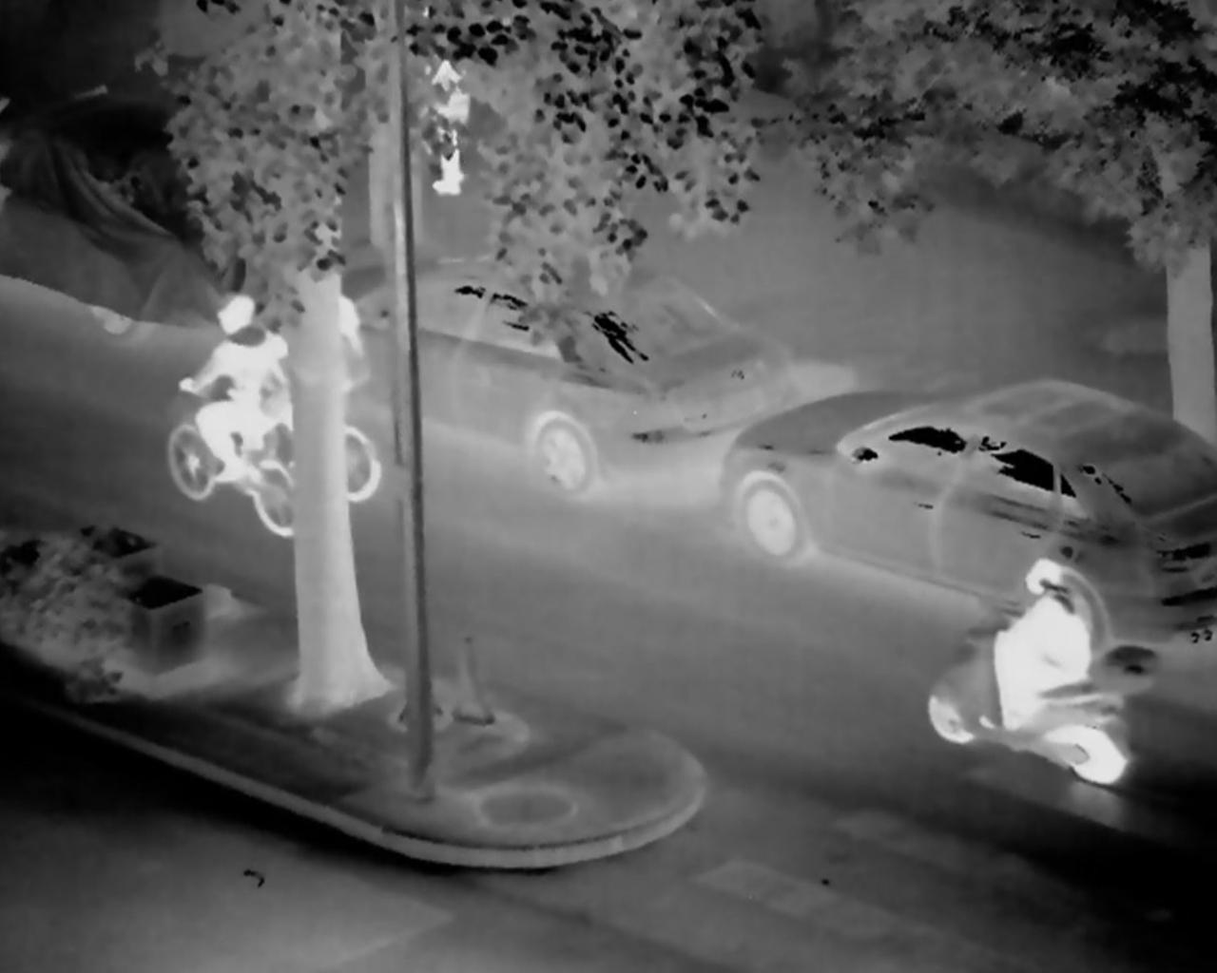person: (174, 297, 298, 504), (992, 553, 1097, 747), (415, 31, 476, 194), (340, 296, 376, 412)
